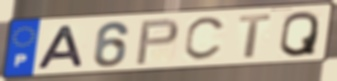6: (91, 20, 130, 69)
A: (35, 24, 87, 71)
C: (181, 15, 229, 63)
P: (133, 17, 181, 67)
Q: (277, 9, 322, 58)
T: (237, 12, 273, 60)
